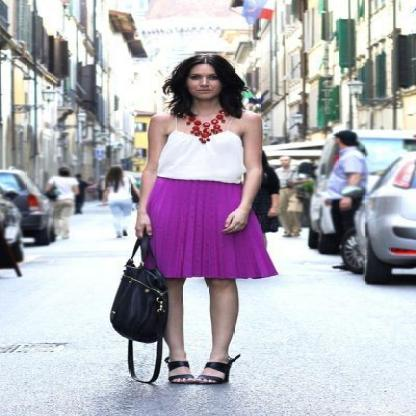bag: (110, 227, 185, 385)
shirt: (154, 125, 244, 182)
shoe: (164, 356, 236, 385)
skirt: (146, 174, 278, 286)
